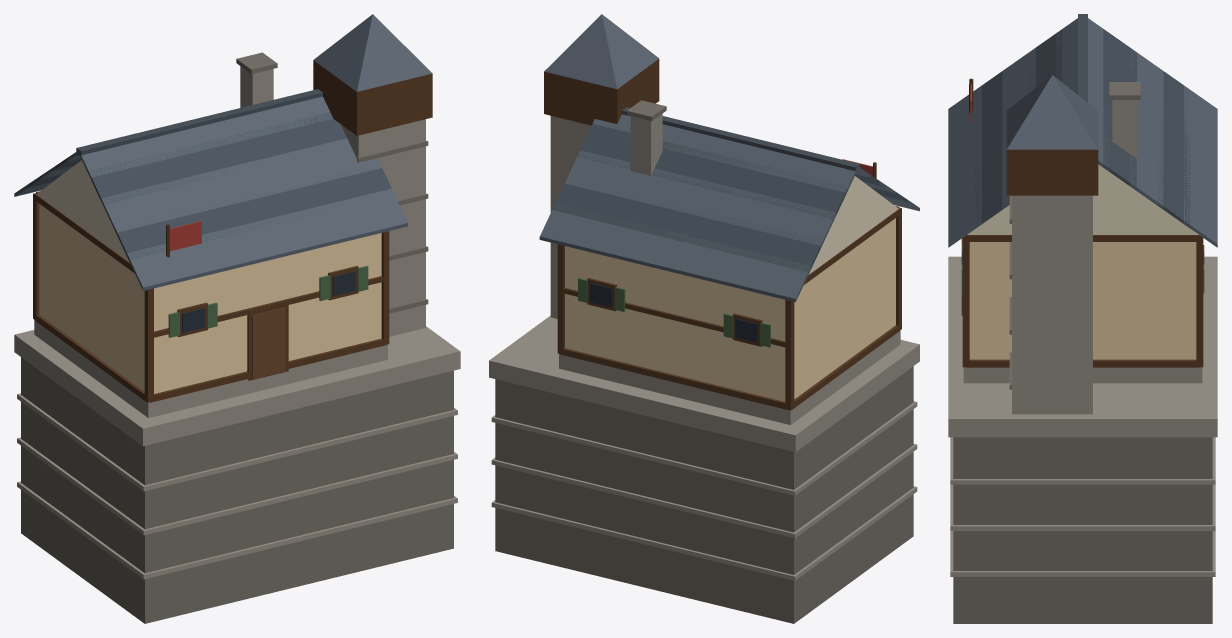
Rendered from town_center.glb.
3 views of the same model, side by side, from view 1: azimuth 30°, elevation 25°; view 2: azimuth 150°, elevation 25°; view 3: azimuth 270°, elevation 25° (orthographic). The views are drawn at different scales.
Parts seen in each view (by area): view 1: town_center; view 2: town_center; view 3: town_center.
Boxes of the visible parts, x1,y1,x2,y2 form: town_center: (14, 14, 460, 623); town_center: (489, 14, 919, 623); town_center: (948, 14, 1217, 623).
Bounding box in the file's own units: 7.55 × 11.55 × 5.3.
